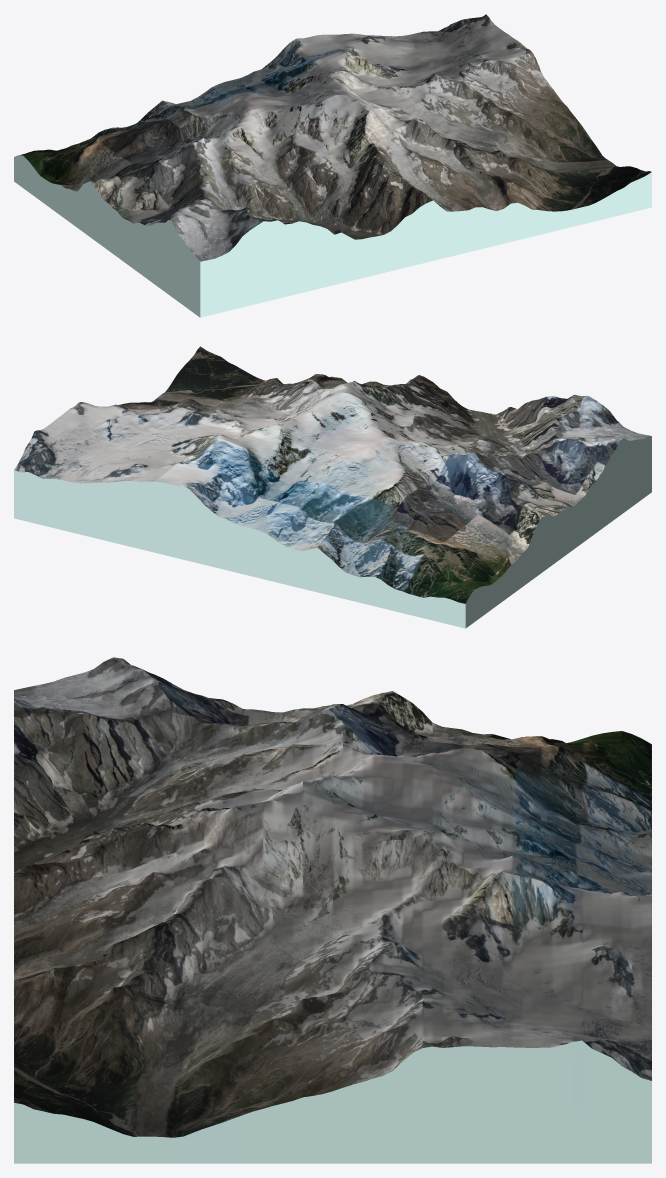
The model's file is mont_blanc.glb.
The picture shows the model from 3 angles, top to bottom: view 1: azimuth 30°, elevation 25°; view 2: azimuth 150°, elevation 25°; view 3: azimuth 270°, elevation 25°; orthographic projection. The views are drawn at different scales.
Visible parts, largest first — view 1: Object_4, Object_5, Object_2; view 2: Object_4, Object_2, Object_5; view 3: Object_4, Object_5, Object_2.
Boxes of the visible parts, box(x1,y1,x2,y2) form: Object_4: box(20, 79, 651, 260); Object_5: box(97, 14, 622, 261); Object_2: box(14, 155, 651, 317); Object_4: box(171, 346, 648, 603); Object_2: box(14, 436, 651, 628); Object_5: box(14, 381, 651, 570); Object_4: box(14, 657, 651, 1129); Object_5: box(14, 660, 651, 1137); Object_2: box(14, 1040, 651, 1163).
Bounding box in the file's own units: 17125 × 3888 × 12231.
2 materials, 1 textured.
